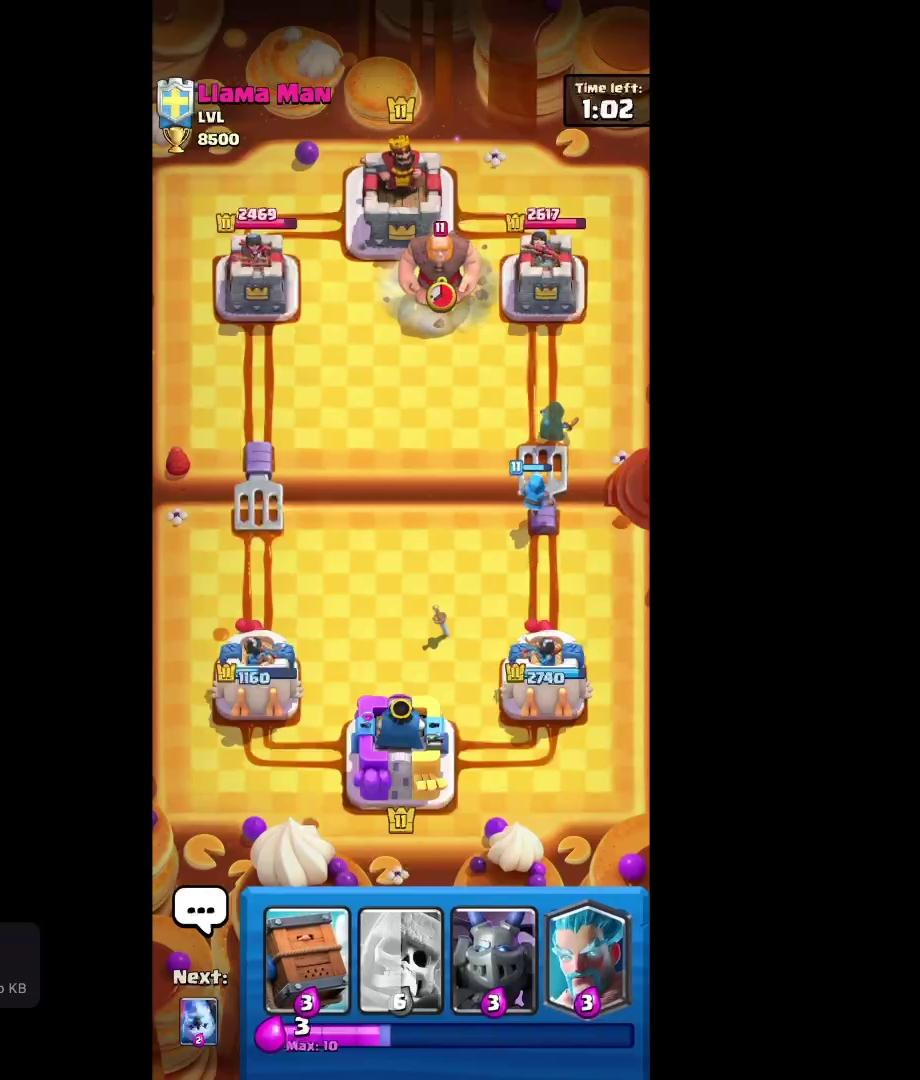Giant: (400, 211, 484, 315)
